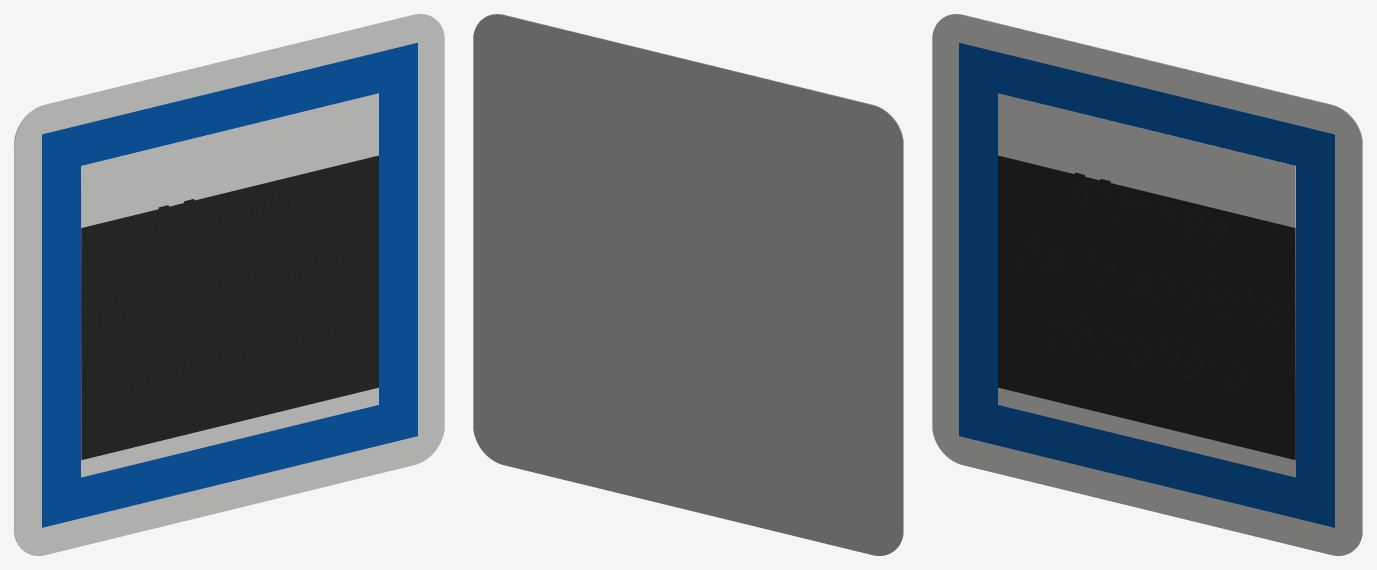
3 renders of one model, left to right at view 1: azimuth 30°, elevation 25°; view 2: azimuth 150°, elevation 25°; view 3: azimuth 330°, elevation 25°, orthographic.
Parts seen in each view (by area): view 1: CE15e_p03, CE15e_p01, CE15e_p00, CE15e_p02, CE15e_p04, CE15e_dos, CE15e_p21, CE15e_p10, CE15e_p07; view 2: CE15e_dos, CE15e_p00; view 3: CE15e_p03, CE15e_p01, CE15e_p00, CE15e_p02, CE15e_p04, CE15e_dos, CE15e_p21, CE15e_p10, CE15e_p07.
Part boxes in pixels (x1=…): CE15e_p03: x1=81, y1=155, x2=378, y2=459; CE15e_p01: x1=42, y1=42, x2=417, y2=527; CE15e_p00: x1=14, y1=14, x2=444, y2=555; CE15e_p02: x1=81, y1=93, x2=378, y2=477; CE15e_p04: x1=151, y1=199, x2=194, y2=249; CE15e_dos: x1=14, y1=14, x2=431, y2=547; CE15e_p21: x1=129, y1=363, x2=155, y2=407; CE15e_p10: x1=99, y1=288, x2=124, y2=332; CE15e_p07: x1=237, y1=195, x2=260, y2=237; CE15e_dos: x1=473, y1=14, x2=903, y2=555; CE15e_p00: x1=486, y1=14, x2=903, y2=547; CE15e_p03: x1=998, y1=155, x2=1295, y2=459; CE15e_p01: x1=959, y1=42, x2=1334, y2=527; CE15e_p00: x1=932, y1=14, x2=1362, y2=555; CE15e_p02: x1=998, y1=93, x2=1295, y2=477; CE15e_p04: x1=1068, y1=172, x2=1110, y2=219; CE15e_dos: x1=945, y1=14, x2=1362, y2=547; CE15e_p21: x1=1041, y1=320, x2=1066, y2=358; CE15e_p10: x1=1013, y1=234, x2=1039, y2=273; CE15e_p07: x1=1152, y1=206, x2=1175, y2=246.
Bounding box in the file's own units: 0.7 × 0.6999 × 0.0139.
